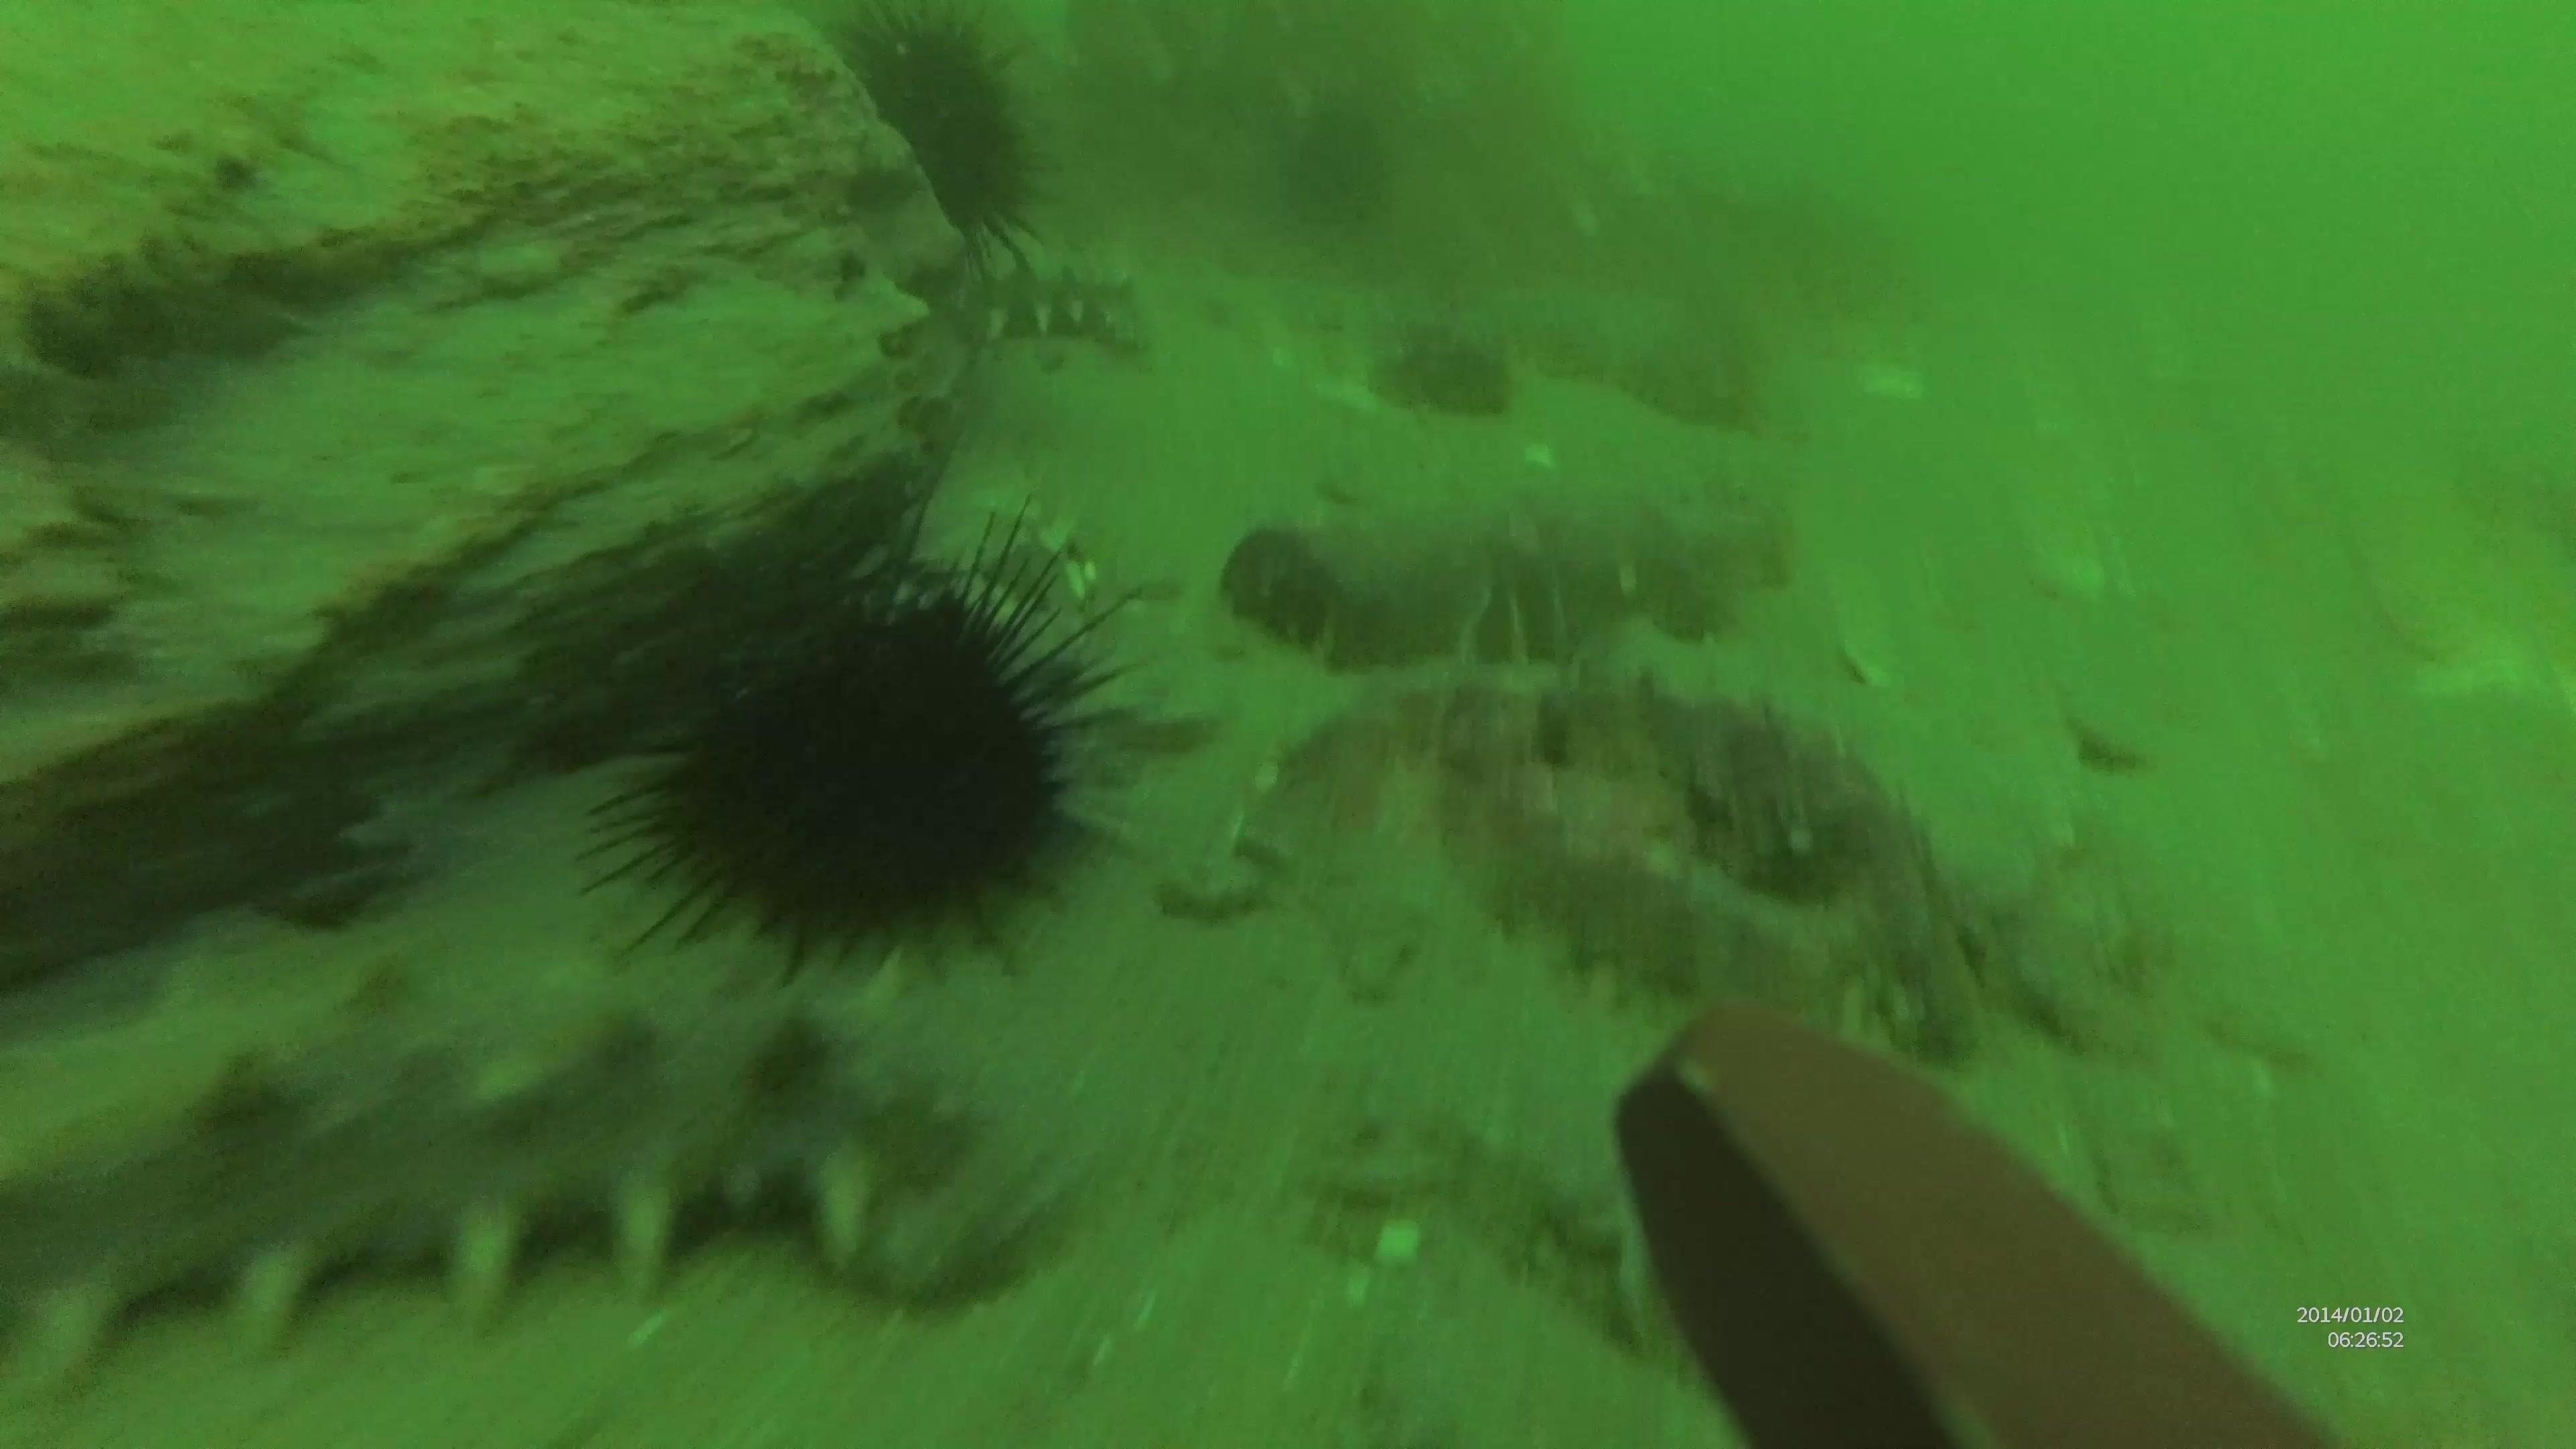echinus: (587, 506, 1169, 985), (814, 5, 1058, 265)
holothurian: (2, 922, 1040, 1392), (1230, 472, 1743, 679), (915, 246, 1155, 361)
